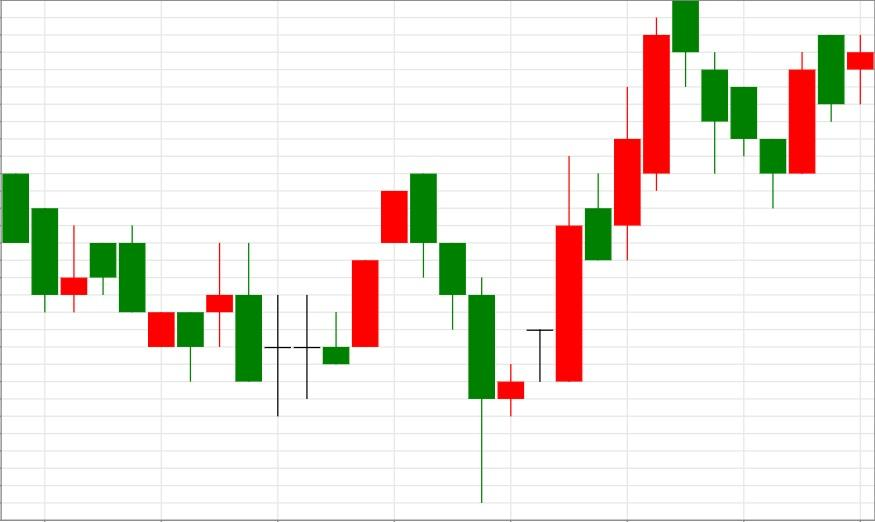three_black_crows_fall: (263, 173, 496, 504)
